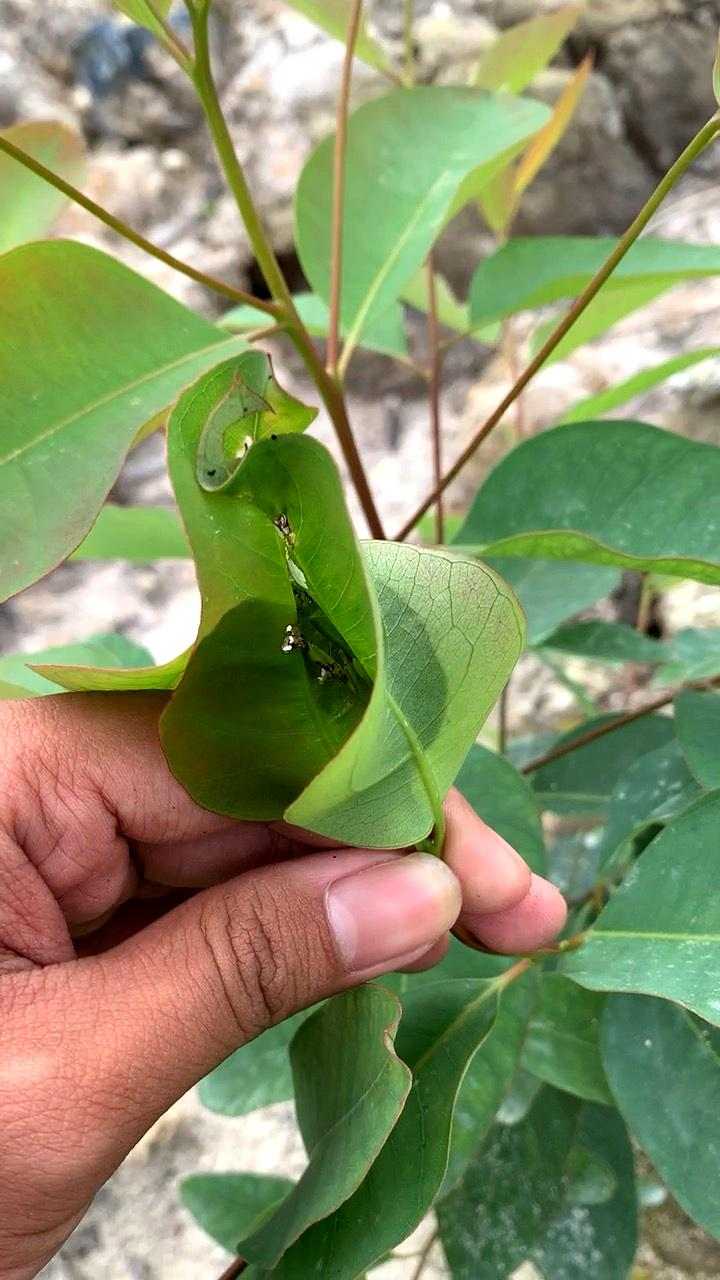Leaf Roller - Leaf: (133, 328, 553, 872)
